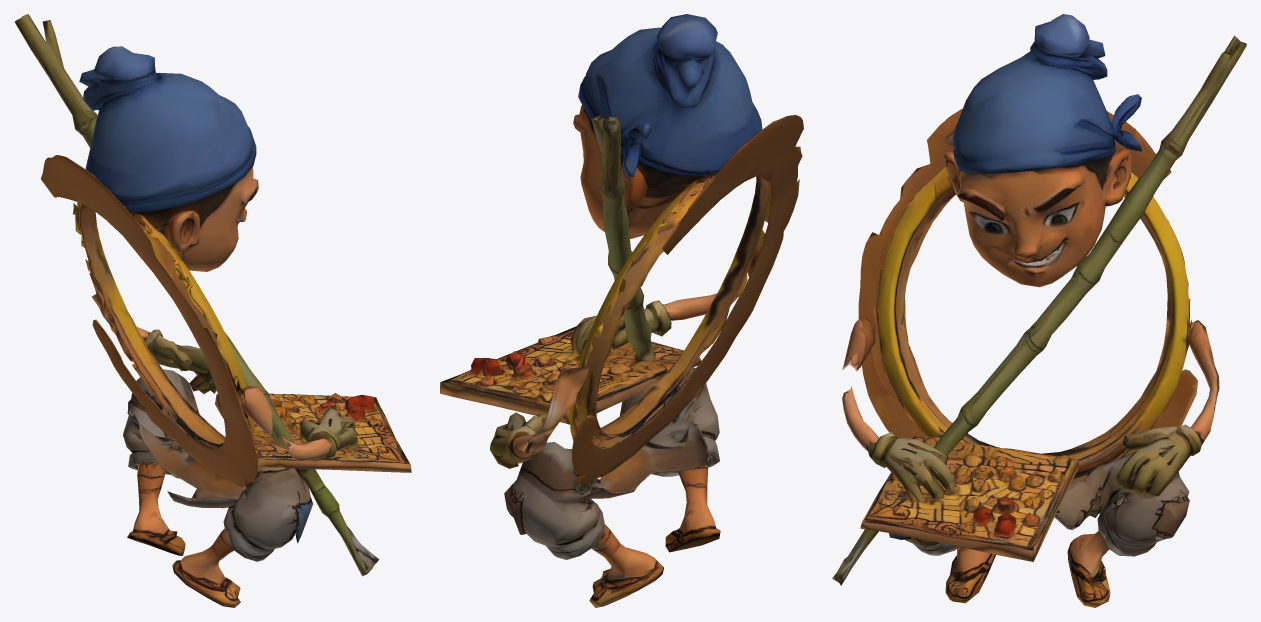
File: j_liu_young.glb
3 renders of one model, left to right at view 1: azimuth 30°, elevation 25°; view 2: azimuth 150°, elevation 25°; view 3: azimuth 270°, elevation 25°, orthographic. The views are drawn at different scales.
Visible parts, largest first — view 1: tripo_node_fe2006cb-78aa-42f4-b068-57df84587bf2; view 2: tripo_node_fe2006cb-78aa-42f4-b068-57df84587bf2; view 3: tripo_node_fe2006cb-78aa-42f4-b068-57df84587bf2.
Boxes of the visible parts, x1=… form: tripo_node_fe2006cb-78aa-42f4-b068-57df84587bf2: x1=14, y1=14, x2=411, y2=607; tripo_node_fe2006cb-78aa-42f4-b068-57df84587bf2: x1=440, y1=14, x2=803, y2=607; tripo_node_fe2006cb-78aa-42f4-b068-57df84587bf2: x1=832, y1=14, x2=1246, y2=607.
Bounding box in the file's own units: 0.5748 × 1 × 0.6792.
1 material, 1 textured.
